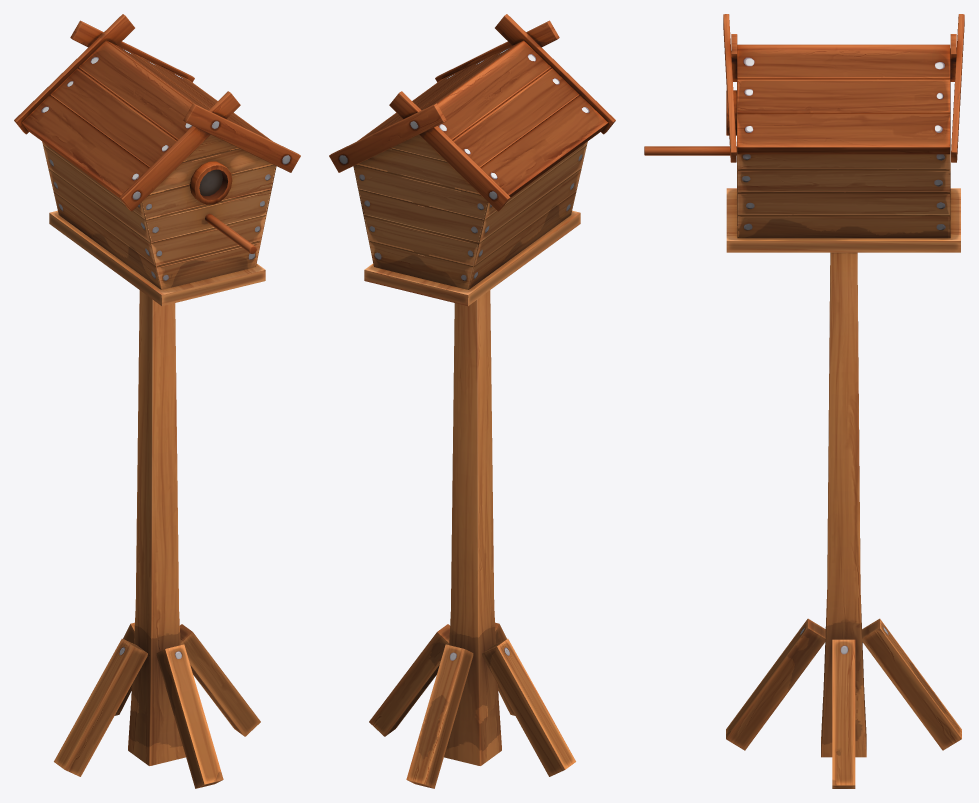
Rendered from BirdsHouse01.FBX.
The picture shows the model from 3 angles, left to right: view 1: azimuth 30°, elevation 25°; view 2: azimuth 150°, elevation 25°; view 3: azimuth 270°, elevation 25°; orthographic projection. The views are drawn at different scales.
Parts seen in each view (by area): view 1: BirdsHouse01; view 2: BirdsHouse01; view 3: BirdsHouse01.
Part boxes in pixels (x1=…): BirdsHouse01: x1=14, y1=14, x2=300, y2=788; BirdsHouse01: x1=329, y1=14, x2=615, y2=788; BirdsHouse01: x1=644, y1=14, x2=964, y2=788.
Size of what is drawn, in the model's own units: 0.5584 by 1.89 by 0.7576.
